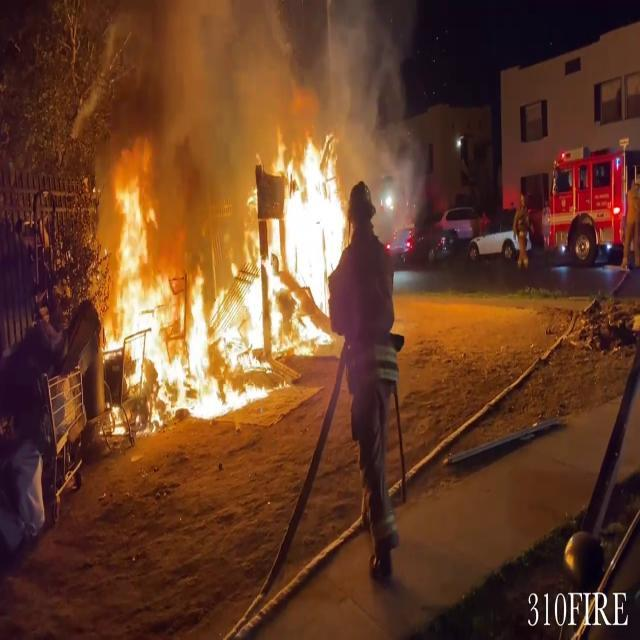Fire: (90, 128, 356, 424)
Smoke: (96, 0, 433, 205)
